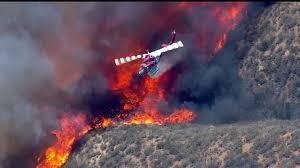fire: (32, 53, 197, 167), (200, 5, 242, 57)
